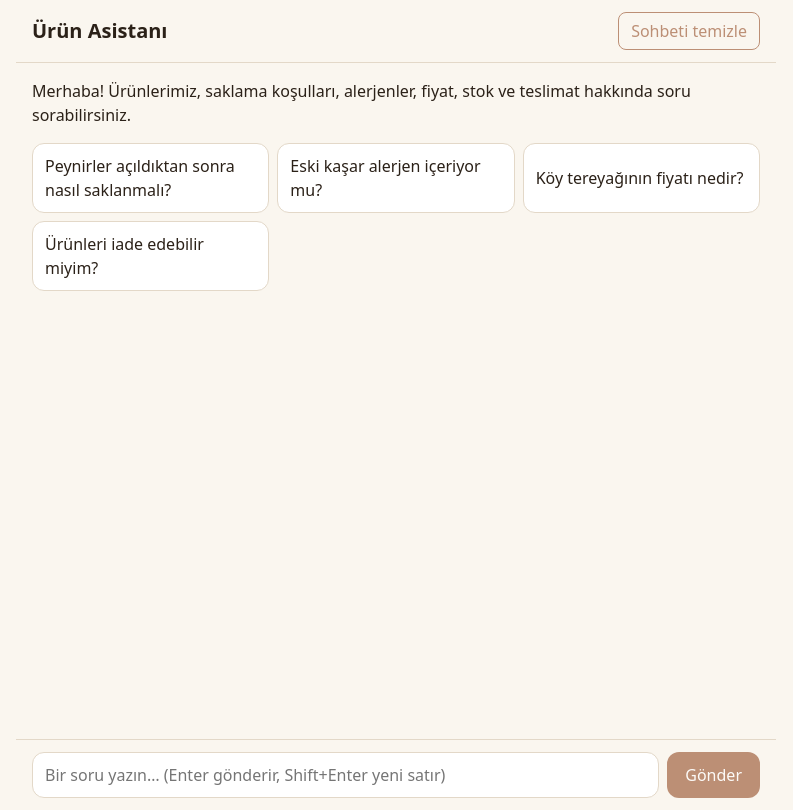
Test: App › renders model output as text, not HTML
Type "x" into the text box named "Mesajınız" at (346, 775), box [32,752,659,798]
Then press Enter
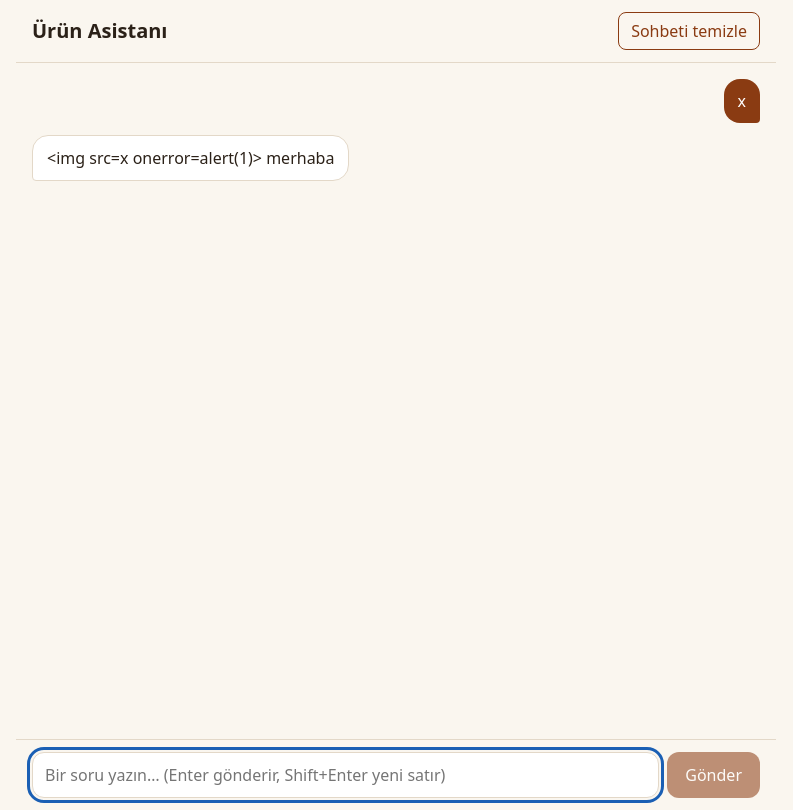
Now the text "<img src=x onerror=alert(1)> merhaba" is shown, box [47,146,334,170]
